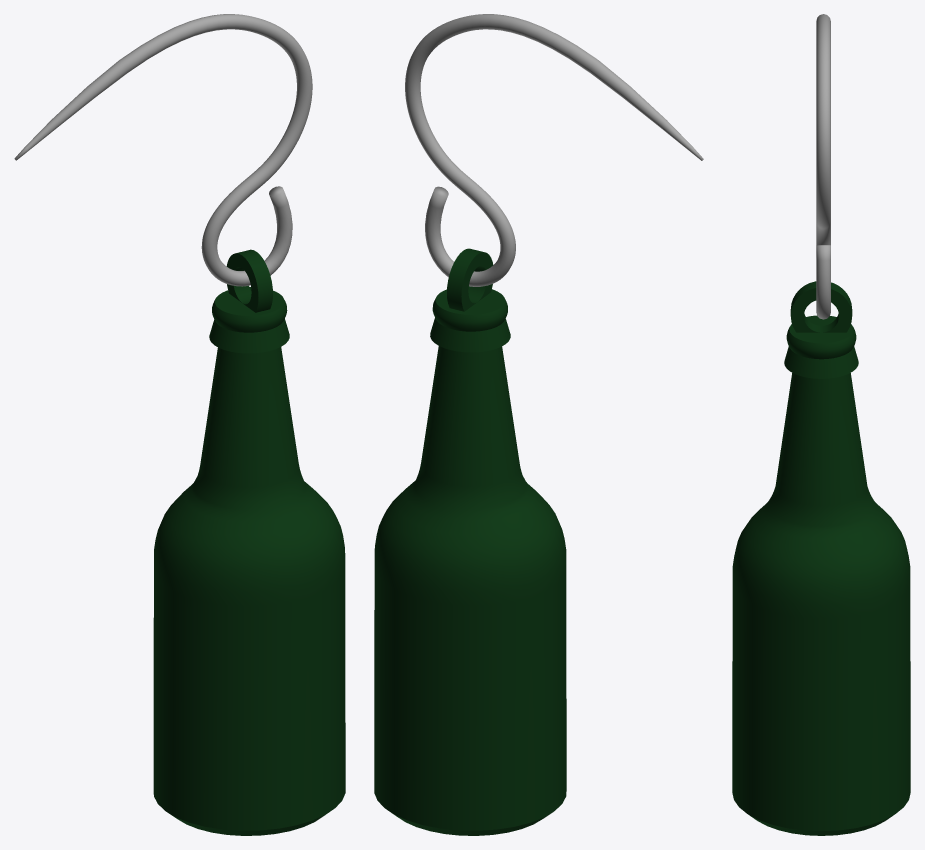
File: BeerBottle.obj
3 views of the same model, side by side, from view 1: azimuth 30°, elevation 25°; view 2: azimuth 150°, elevation 25°; view 3: azimuth 270°, elevation 25° (orthographic). The views are drawn at different scales.
Parts seen in each view (by area): view 1: Beer_Bottle.L, Hook.R; view 2: Beer_Bottle.L, Hook.R; view 3: Beer_Bottle.L, Hook.R.
Part boxes in pixels (left/top/right/bottom): Beer_Bottle.L: left=153, top=249, right=345, bottom=835; Hook.R: left=14, top=14, right=312, bottom=286; Beer_Bottle.L: left=374, top=248, right=566, bottom=835; Hook.R: left=405, top=14, right=703, bottom=286; Beer_Bottle.L: left=732, top=281, right=910, bottom=835; Hook.R: left=816, top=14, right=830, bottom=319.
Bounding box in the file's own units: 2.83 × 6.75 × 1.45.
